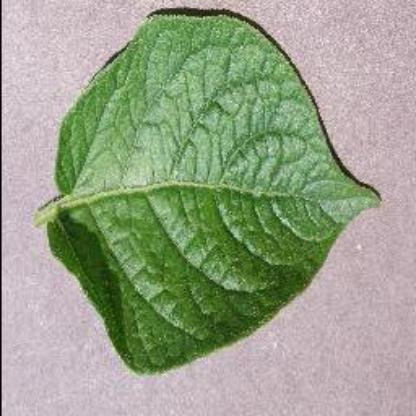Healthy-plant: (36, 10, 382, 376)
